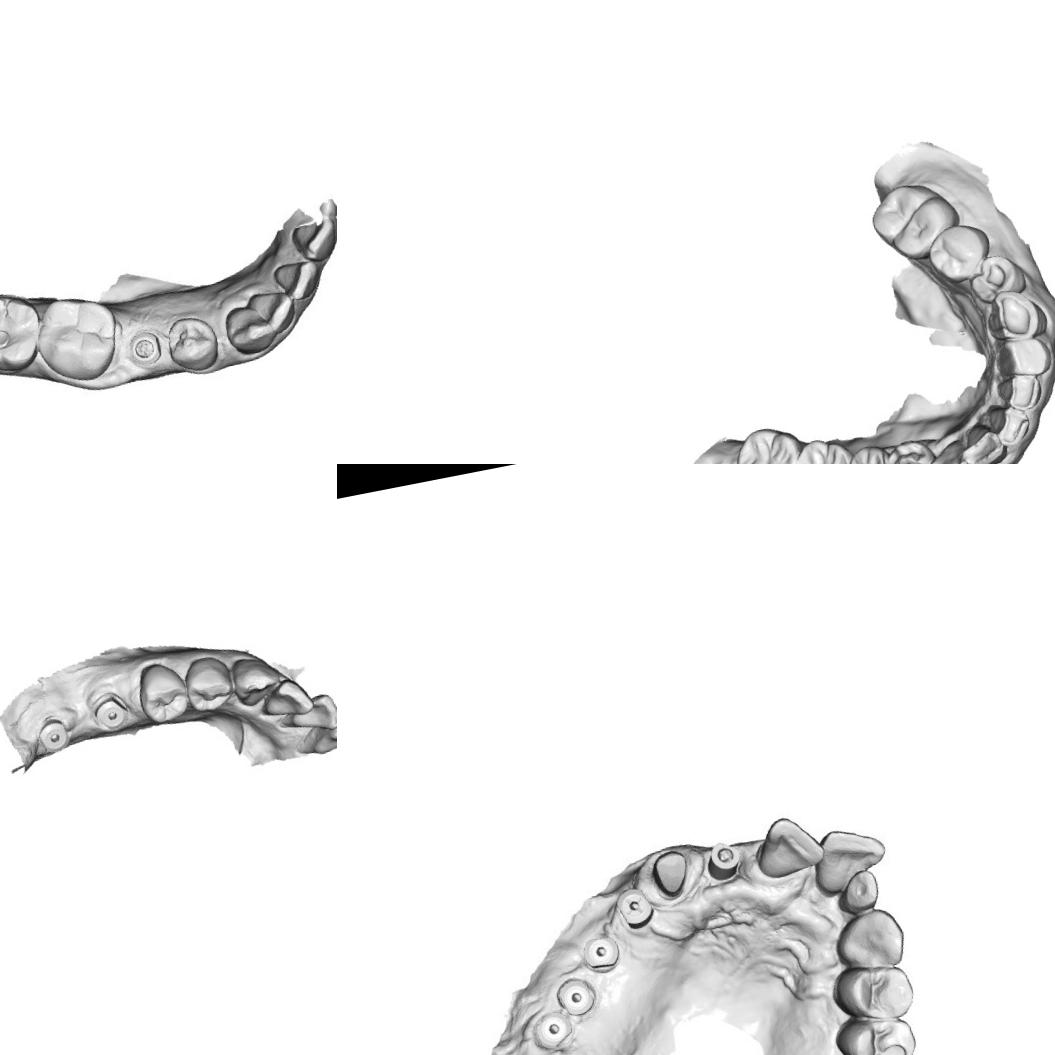canine: (828, 904, 912, 974), (980, 286, 1046, 344), (218, 298, 277, 358), (227, 652, 282, 710), (924, 436, 983, 464)
crown: (644, 841, 704, 905)
implant: (554, 970, 600, 1022), (121, 324, 169, 373), (699, 836, 748, 883), (531, 1004, 573, 1055), (88, 690, 132, 734), (581, 931, 620, 974), (33, 714, 72, 756)
implant_plus: (610, 883, 654, 933)
incisor: (808, 818, 894, 899), (750, 810, 830, 889), (255, 672, 318, 723), (993, 331, 1055, 382), (834, 865, 892, 915), (992, 370, 1050, 419), (272, 254, 326, 306), (287, 210, 337, 263), (284, 687, 337, 737), (985, 399, 1036, 450), (252, 284, 298, 340), (960, 421, 1005, 464), (305, 717, 337, 761)
molar: (32, 287, 126, 388), (862, 177, 963, 267), (0, 285, 50, 379), (730, 420, 805, 464), (788, 432, 859, 464)
premolar: (829, 955, 916, 1028), (825, 1006, 919, 1055), (130, 658, 195, 727), (924, 220, 990, 285), (178, 650, 240, 718), (162, 312, 222, 376), (966, 248, 1025, 302), (843, 439, 902, 464), (890, 437, 936, 464)
